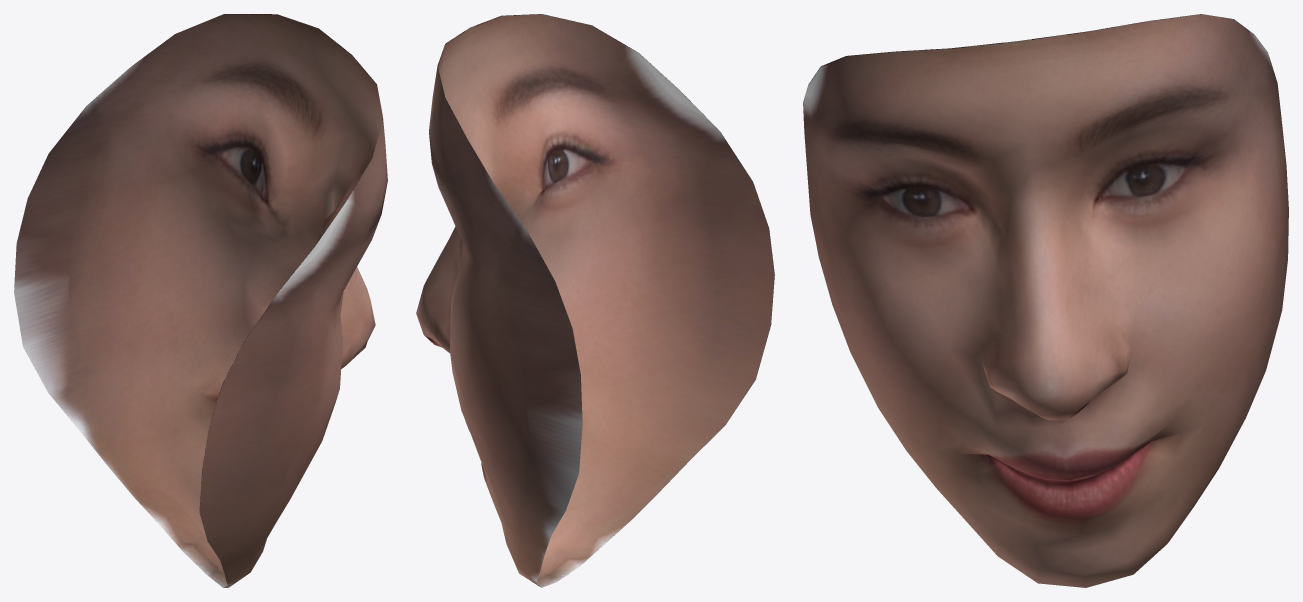
File: instagram_lifestyle.glb
3 renders of one model, left to right at view 1: azimuth 30°, elevation 25°; view 2: azimuth 150°, elevation 25°; view 3: azimuth 270°, elevation 25°, orthographic. The views are drawn at different scales.
Parts seen in each view (by area): view 1: instagram_lifestyle; view 2: instagram_lifestyle; view 3: instagram_lifestyle.
Part boxes in pixels (x1,y1,x2,y2): instagram_lifestyle: (14, 14, 387, 587); instagram_lifestyle: (416, 14, 774, 587); instagram_lifestyle: (803, 14, 1288, 587).
Bounding box in the file's own units: 0.4425 × 0.8456 × 0.6.
1 material, 1 textured.
